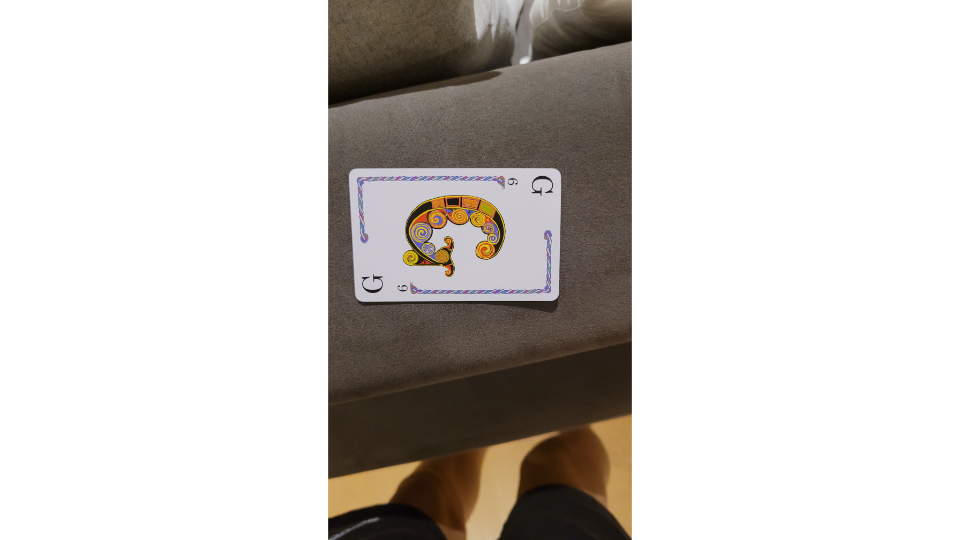G: (346, 164, 564, 306)
